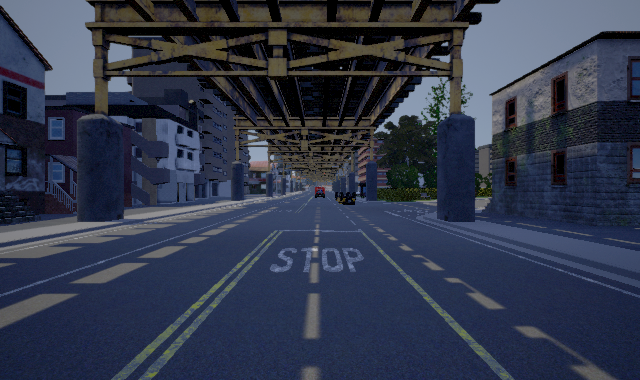vehicle: (313, 187, 328, 199)
